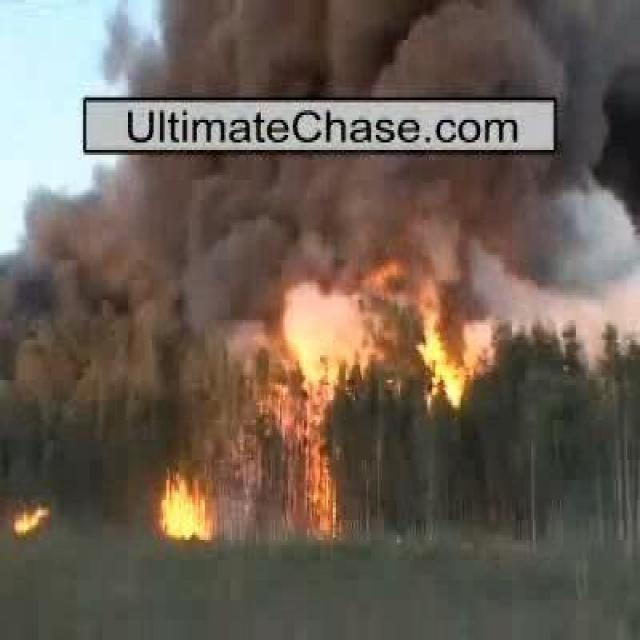fire: (163, 482, 206, 538)
smoke: (51, 161, 553, 291), (129, 3, 532, 91)
